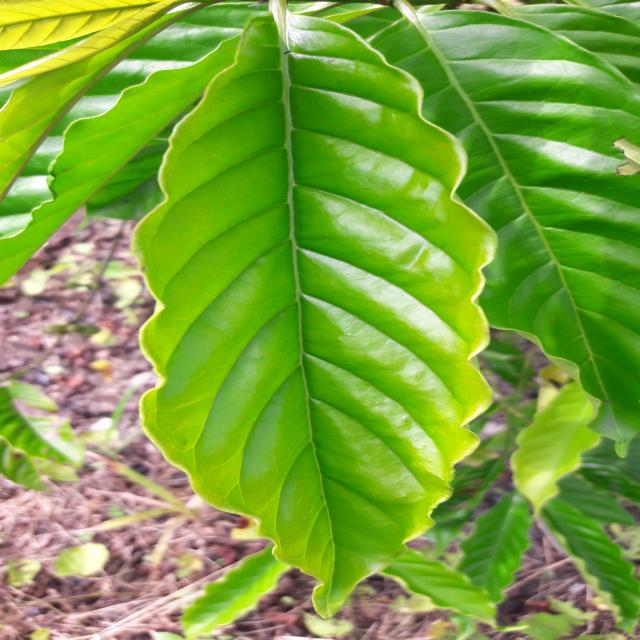Sanas: (134, 0, 497, 597)
